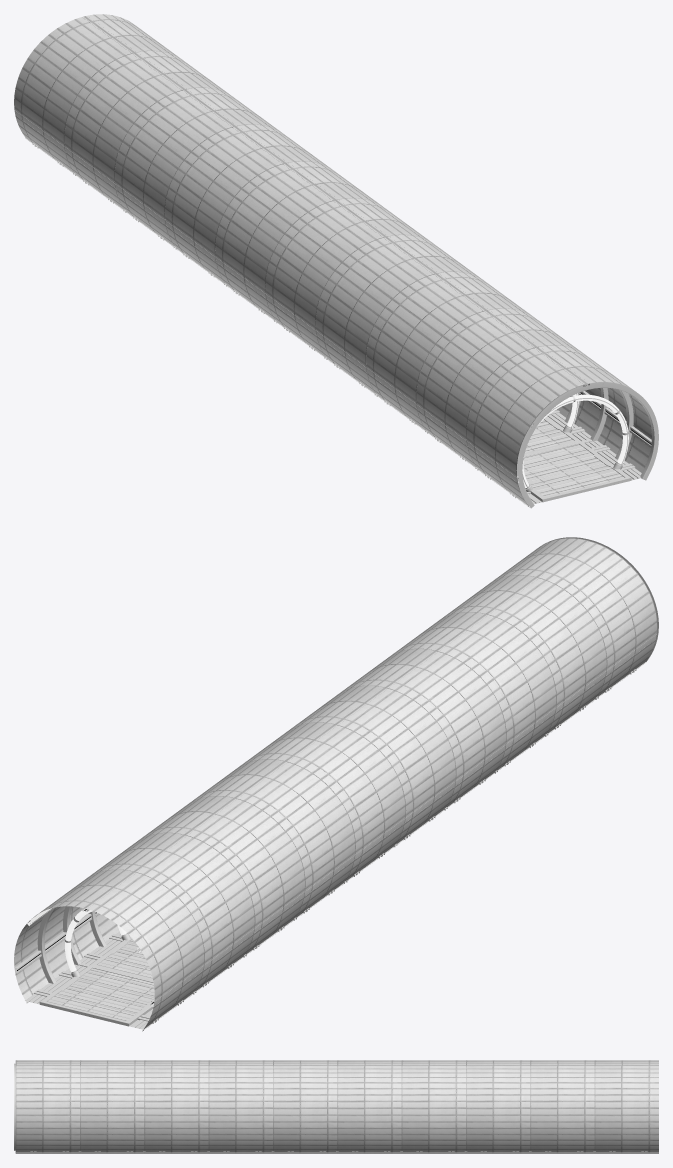
Rendered from future_tunnel.glb.
The picture shows the model from 3 angles, top to bottom: view 1: azimuth 30°, elevation 25°; view 2: azimuth 150°, elevation 25°; view 3: azimuth 270°, elevation 25°; orthographic projection. The views are drawn at different scales.
Parts seen in each view (by area): view 1: Tunnel.Shape, TunnelFloor.Shape, TubeLights.Shape; view 2: Tunnel.Shape, TunnelFloor.Shape; view 3: Tunnel.Shape, TunnelFloor.Shape.
Part boxes in pixels (bbox=[...]): Tunnel.Shape: bbox=[14, 14, 658, 508]; TunnelFloor.Shape: bbox=[25, 138, 641, 505]; TubeLights.Shape: bbox=[522, 393, 628, 491]; Tunnel.Shape: bbox=[14, 537, 658, 1031]; TunnelFloor.Shape: bbox=[25, 662, 646, 1029]; Tunnel.Shape: bbox=[14, 1060, 658, 1153]; TunnelFloor.Shape: bbox=[16, 1151, 658, 1152].
Size of the model in its own units: 4.74 by 3.51 by 29.38.
Materials: 8 (6 with a texture image).
